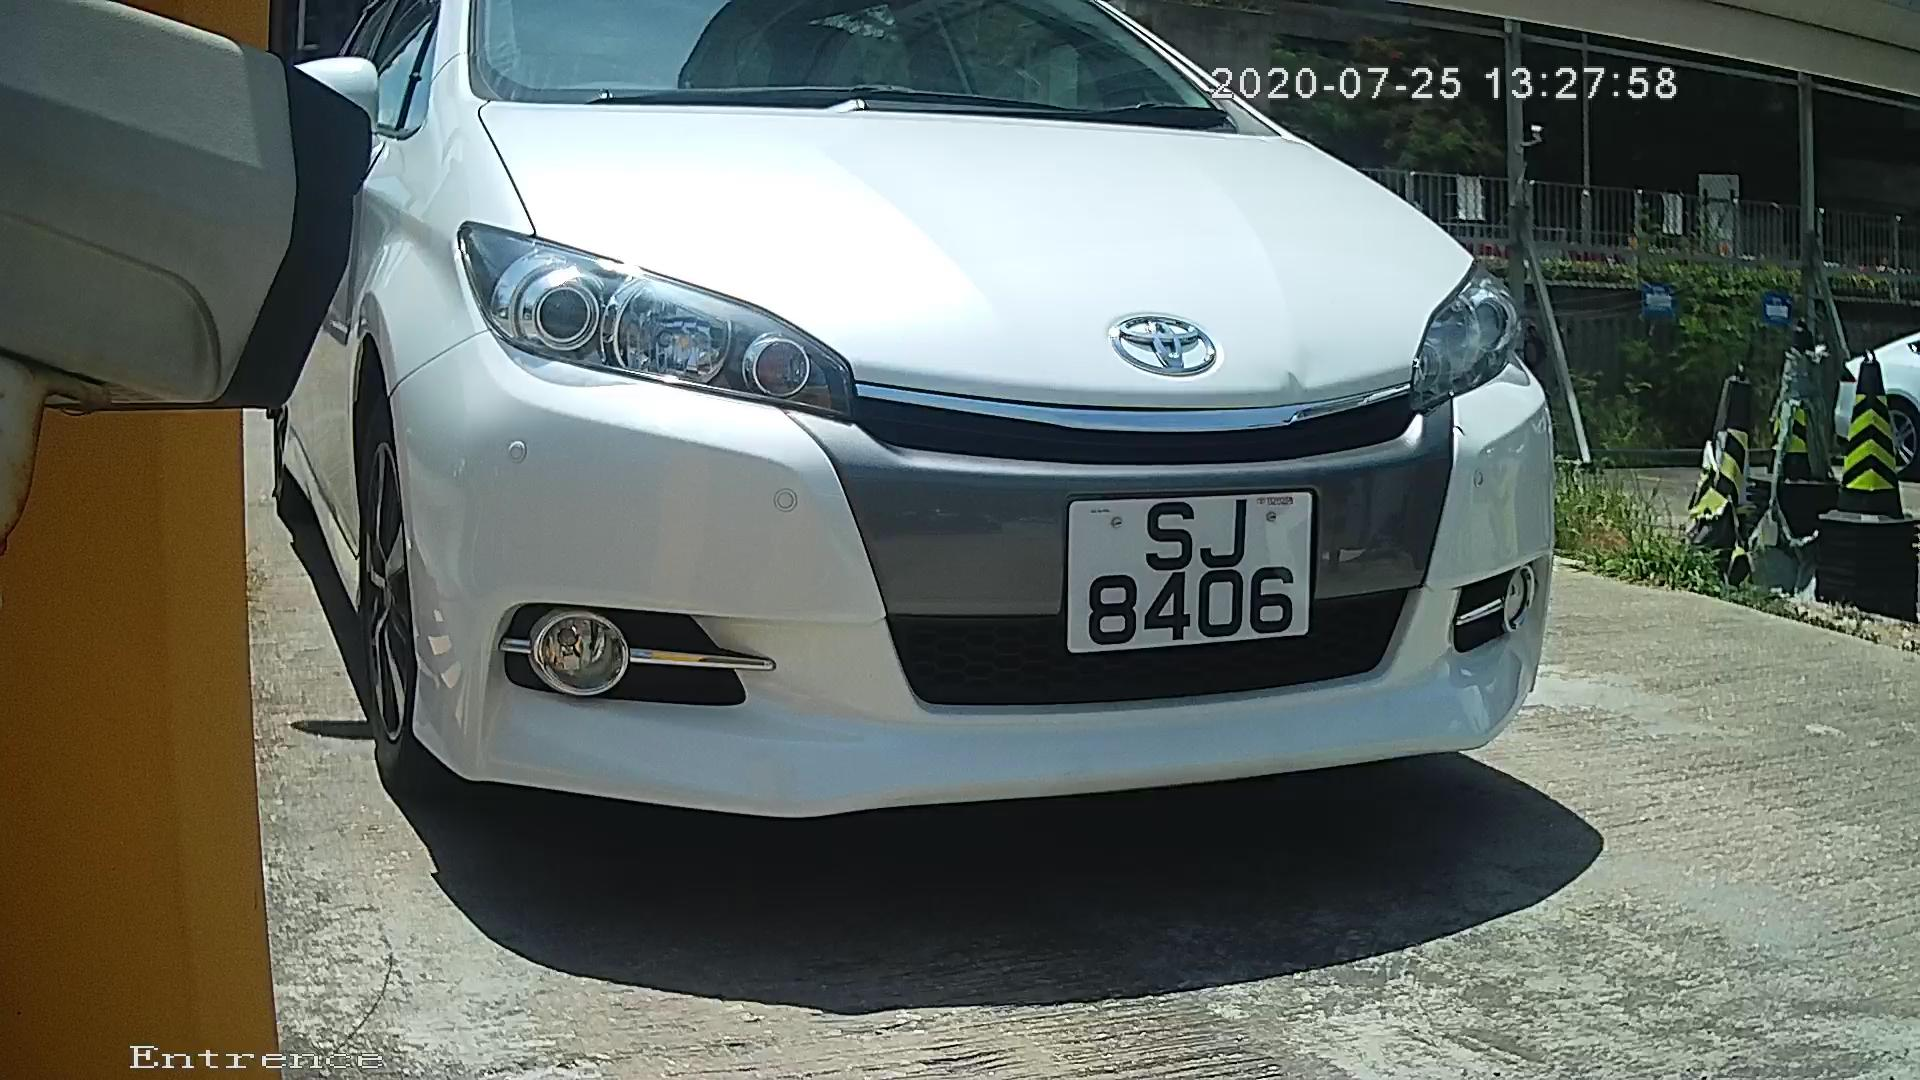License Plate: (1046, 463, 1338, 671)
